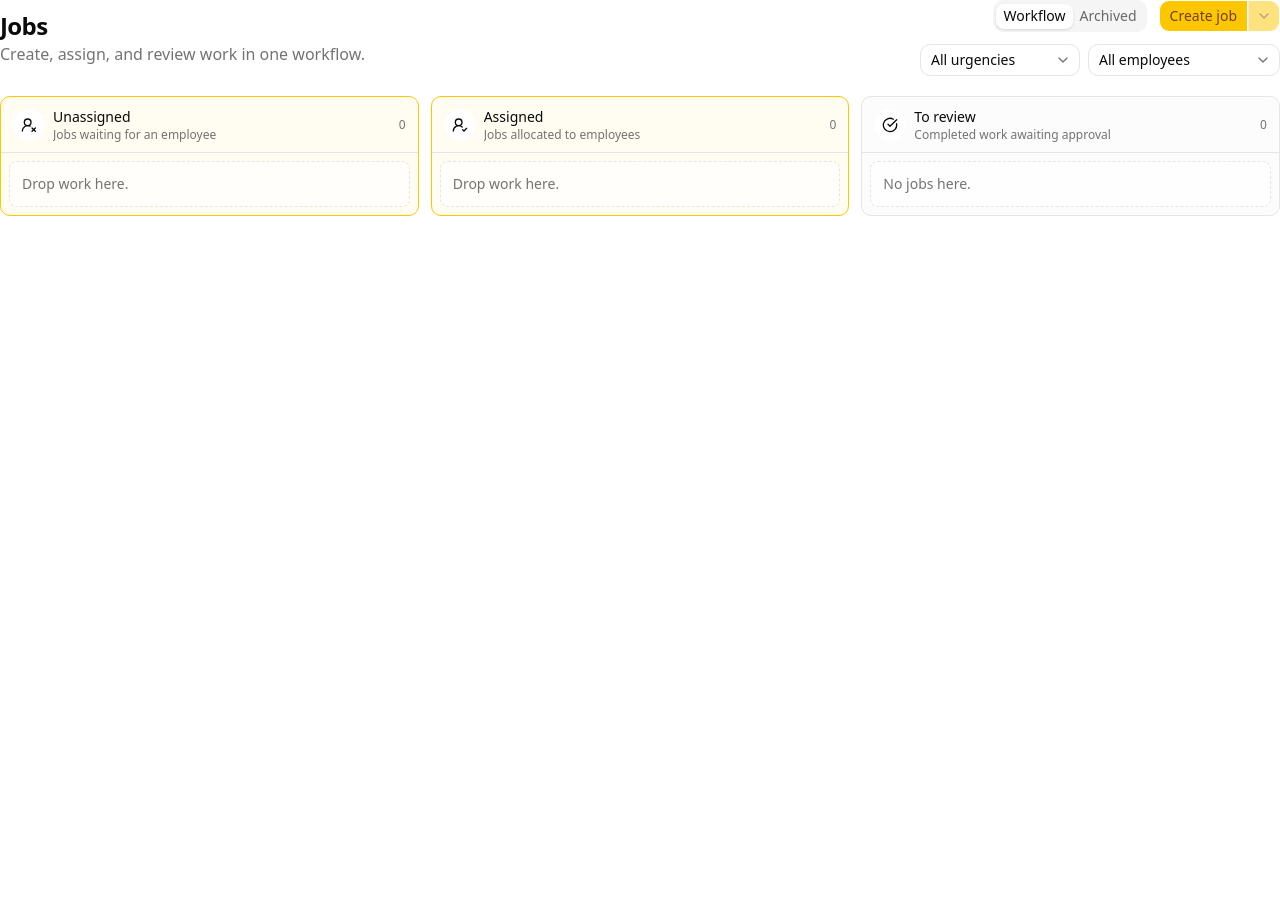
Test case: JobWorkspace › uses a capped scrollable drawer for mobile job creation
Click the button "Create job" at (1203, 16), box x1=1159 y1=0 x2=1248 y2=32
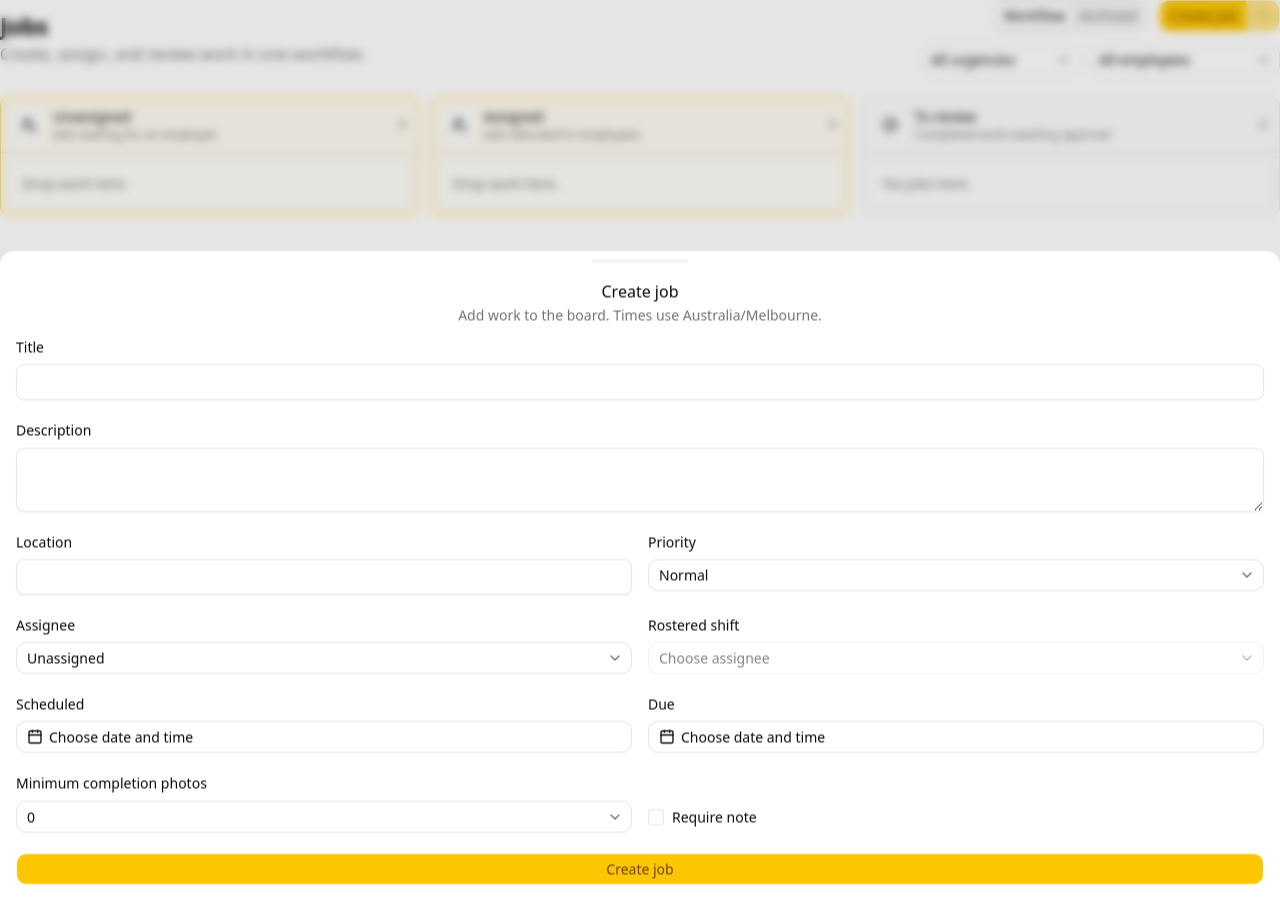
expect the dialog "Create job" is shown: met
